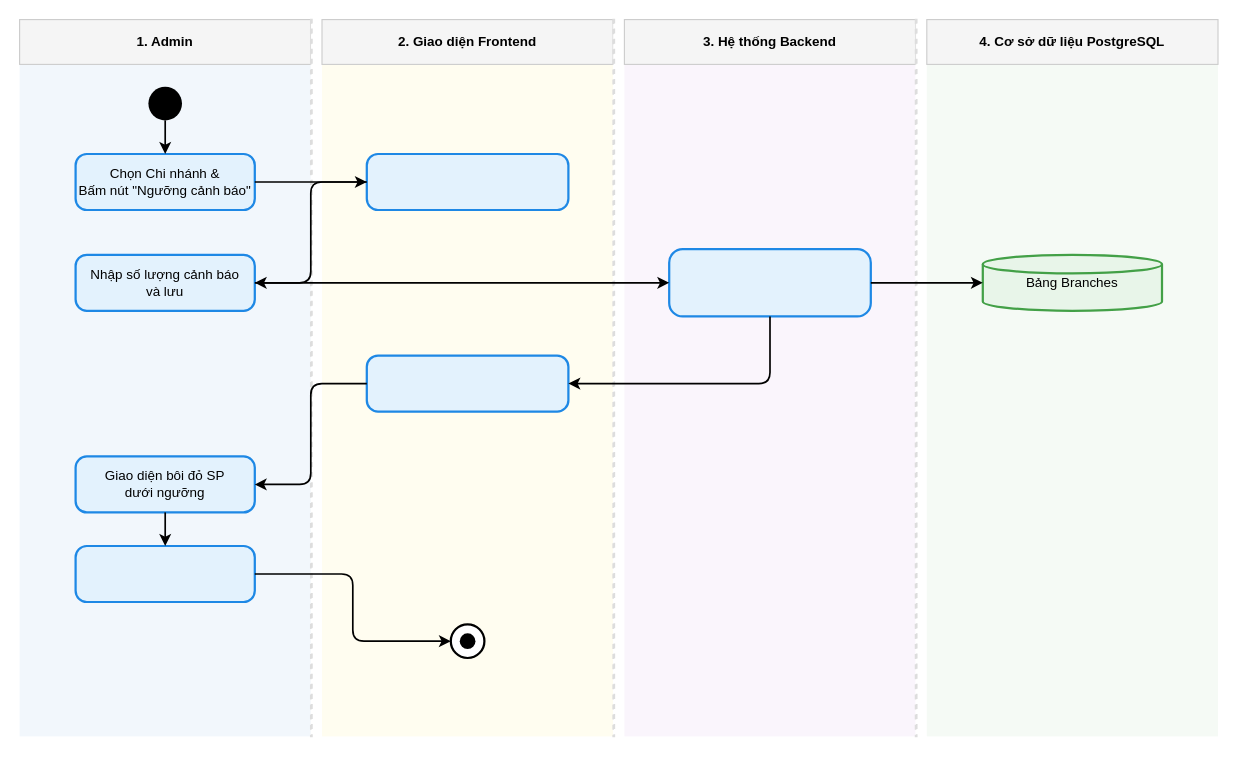
The diagram is 1238 pixels wide and 757 high, and some of its shapes have lost their labels. Each missing label, with the box of its shape:
Bật filter "Chỉ hiện SP cảnh báo": (74, 544, 255, 603)
Gọi API PUT /branches/{id} cập nhật lowStockThreshold: (668, 248, 871, 317)
Mở Modal thiết lập ngưỡng tồn kho tối thiểu: (365, 152, 569, 211)
Nhận kết quả thành công & Cập nhật lại danh sách: (365, 354, 569, 412)
